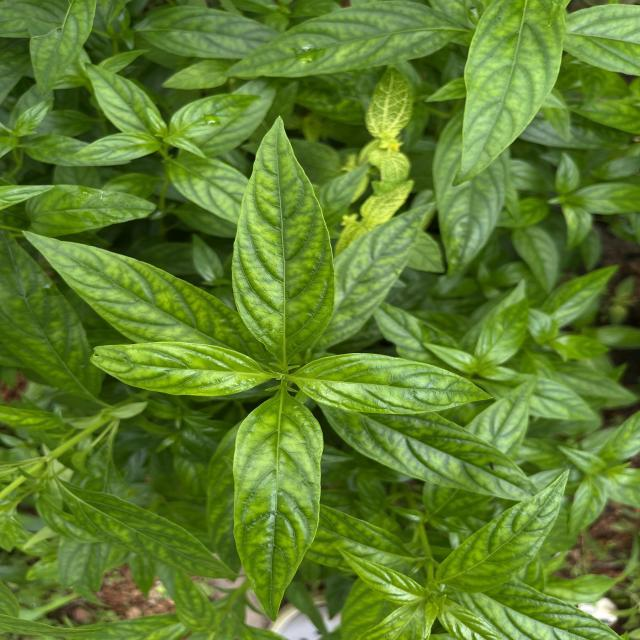Andrographis paniculata: (230, 115, 340, 359), (20, 228, 245, 345), (449, 0, 572, 189), (232, 392, 324, 624), (333, 408, 542, 507), (221, 1, 466, 80), (337, 198, 442, 354), (292, 350, 499, 418), (88, 340, 266, 398), (27, 182, 161, 239), (136, 5, 272, 56), (82, 59, 156, 129), (174, 91, 266, 140)
